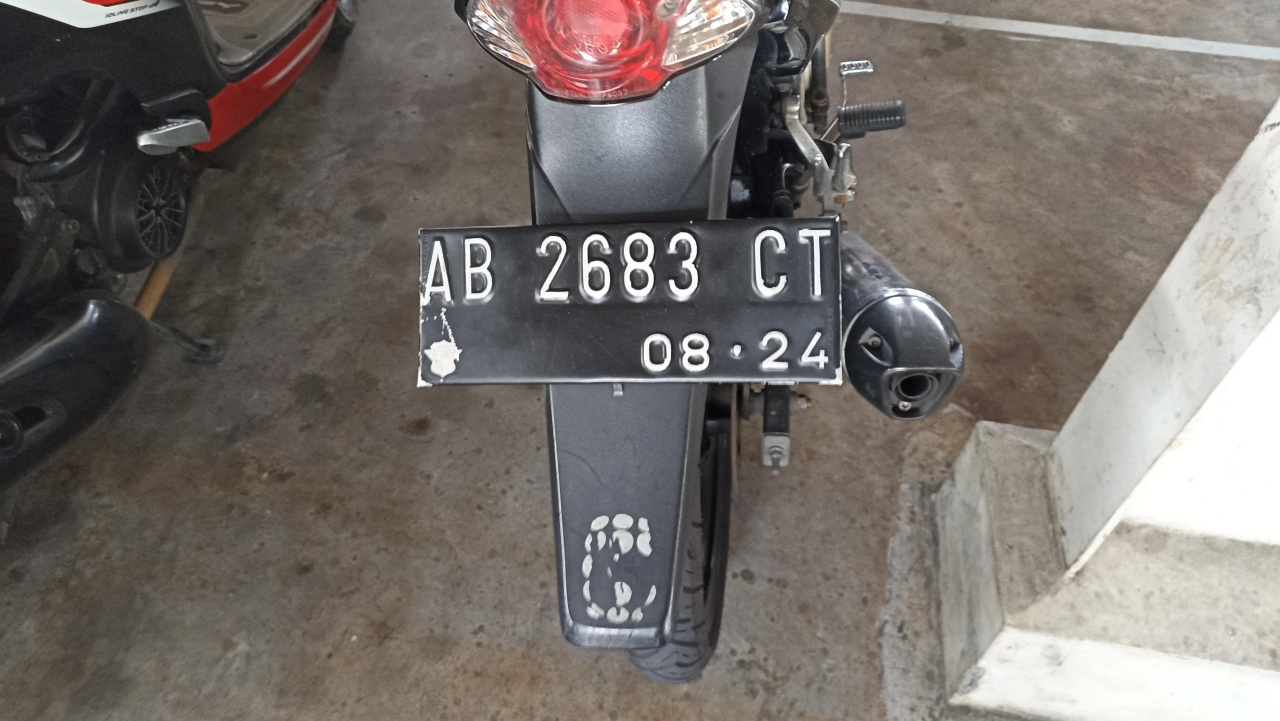plate: (416, 220, 843, 389)
